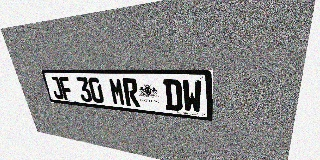0: (87, 77, 105, 104)
3: (76, 77, 93, 102)
D: (163, 79, 183, 111)
F: (58, 77, 74, 101)
J: (49, 76, 64, 100)
M: (108, 78, 126, 106)
R: (122, 78, 140, 107)
W: (182, 79, 202, 113)
